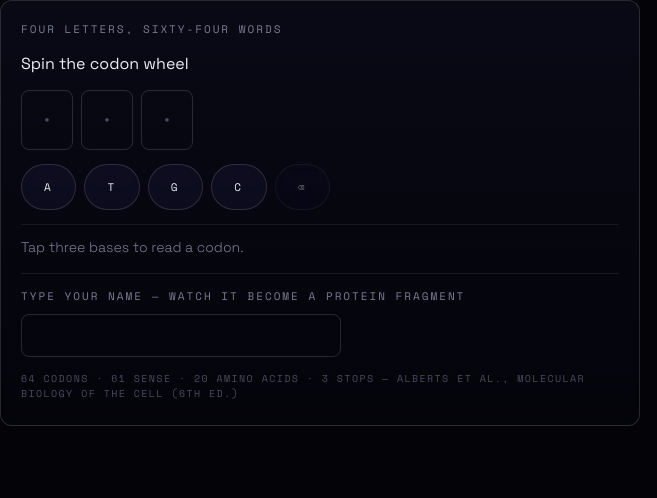
Test case: CodonWheel › name toy spells letters and skips B/J/O/X/Z
The image size is (657, 498).
In the field labelled "Type your name — watch it become a protein fragment": (181, 336) [21, 314, 341, 357], type "MAX"
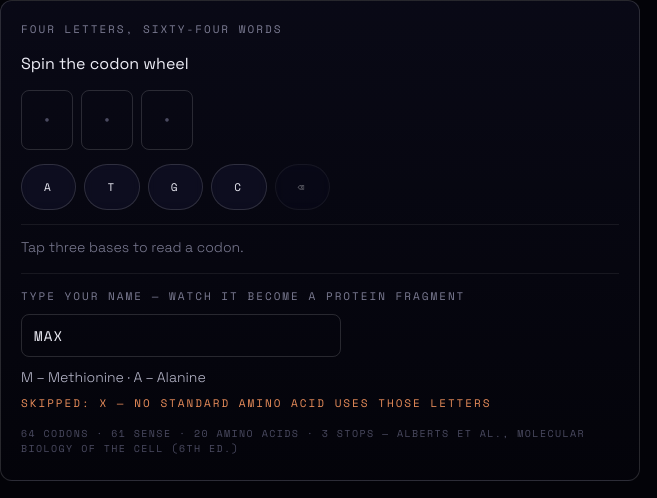
expect the text "M – Methionine · A – Alanine" is shown: met, box [21, 368, 206, 386]
expect the text "Skipped: X — no standard amino acid uses those letters" is shown: met, box [21, 395, 492, 411]
